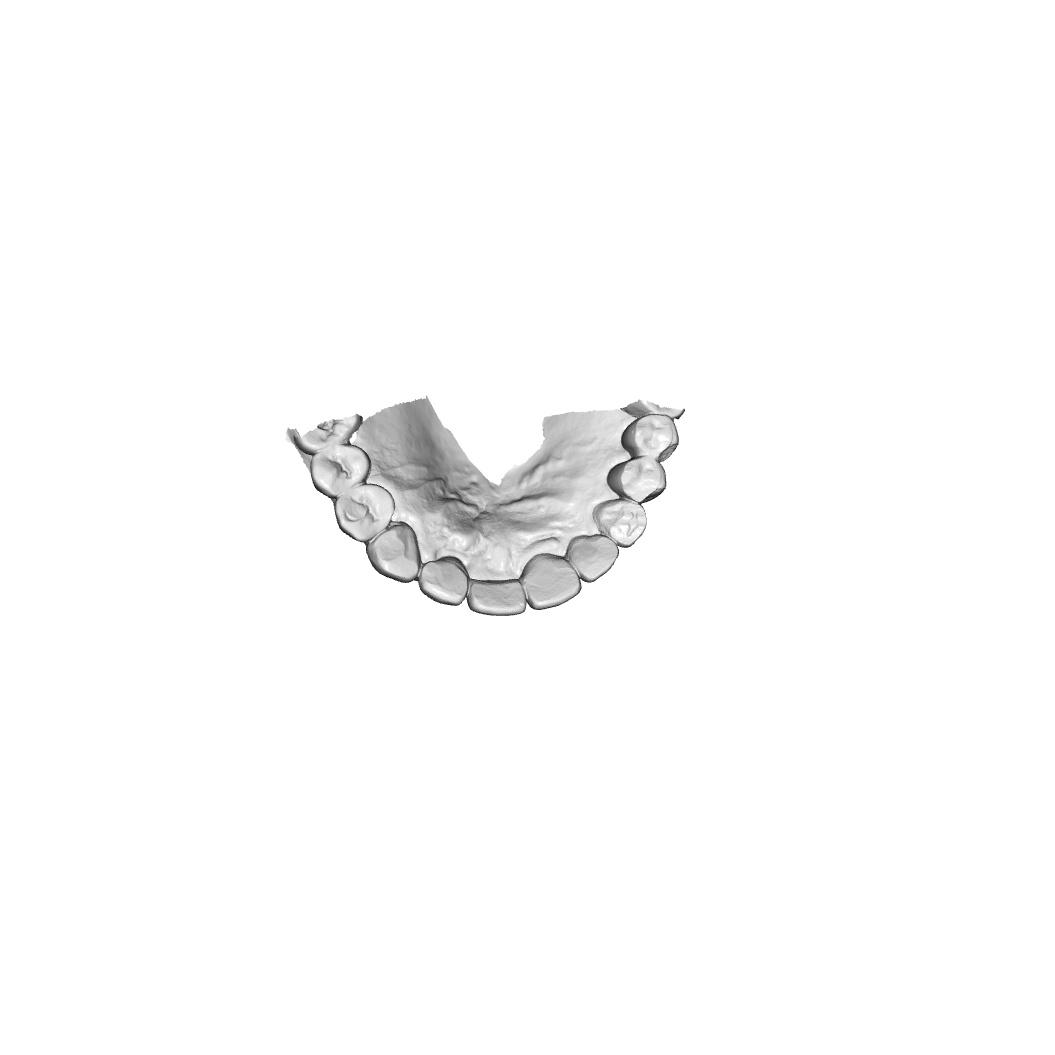canine: (364, 521, 421, 585), (593, 498, 648, 548)
incisor: (517, 552, 582, 611), (565, 533, 619, 584), (418, 555, 469, 608), (465, 578, 528, 617)
premolar: (333, 483, 396, 544), (310, 443, 372, 500), (620, 413, 680, 464), (606, 456, 667, 505)
